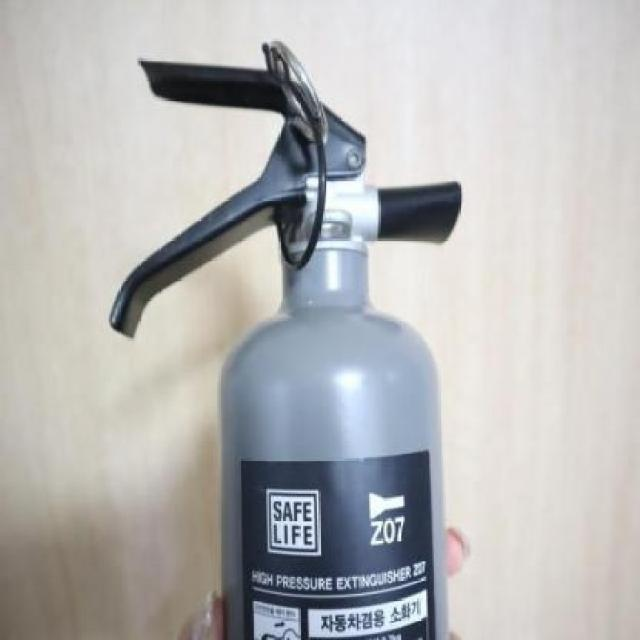fire extinguisher: (109, 57, 463, 640)
